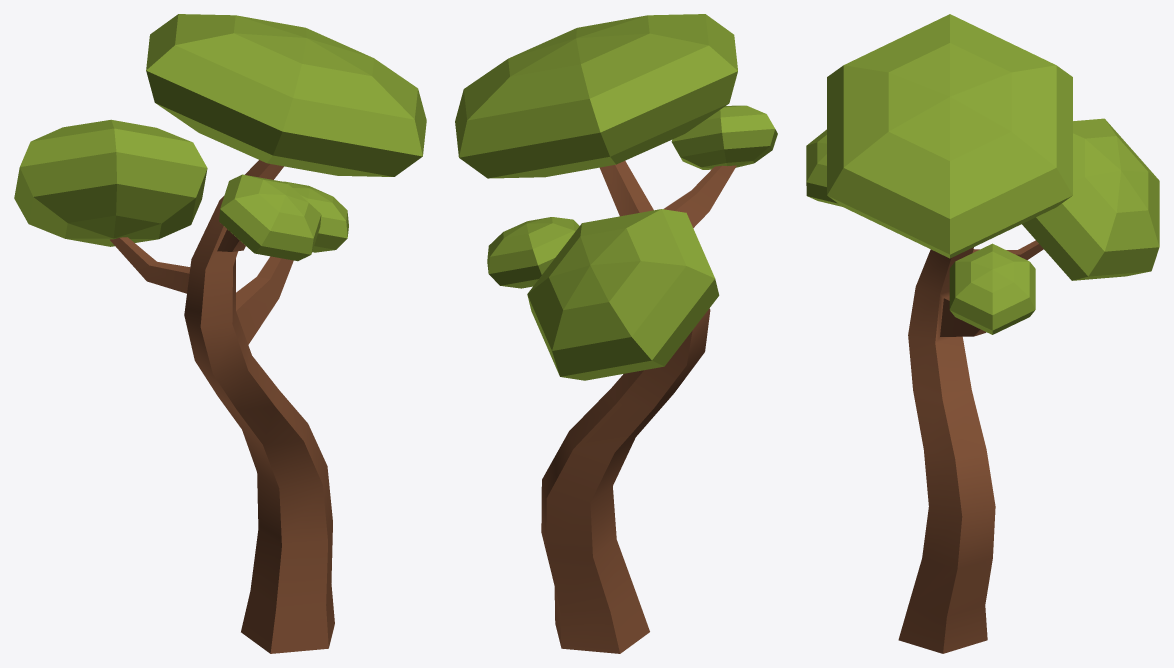
File: Tree2.fbx
The picture shows the model from 3 angles, left to right: view 1: azimuth 30°, elevation 25°; view 2: azimuth 150°, elevation 25°; view 3: azimuth 270°, elevation 25°; orthographic projection. The views are drawn at different scales.
Visible parts, largest first — view 1: pCylinder2, pSphere4, pSphere6, pSphere7, pSphere5; view 2: pSphere4, pCylinder2, pSphere6, pSphere7, pSphere5; view 3: pSphere4, pCylinder2, pSphere6, pSphere5, pSphere7.
Part boxes in pixels (x1,y1,x2,y2): pCylinder2: (110,160,334,653); pSphere4: (146,14,426,176); pSphere6: (14,119,207,246); pSphere7: (219,174,321,261); pSphere5: (284,181,348,252); pSphere4: (455,14,737,178); pCylinder2: (541,161,736,653); pSphere6: (527,209,719,380); pSphere7: (671,105,777,169); pSphere5: (487,217,579,288); pSphere4: (827,14,1072,258); pCylinder2: (898,240,1043,653); pSphere6: (1022,118,1159,280); pSphere5: (949,243,1035,334); pSphere7: (806,129,842,206).
Bounding box in the file's own units: 5.59 × 9.87 × 5.55.
